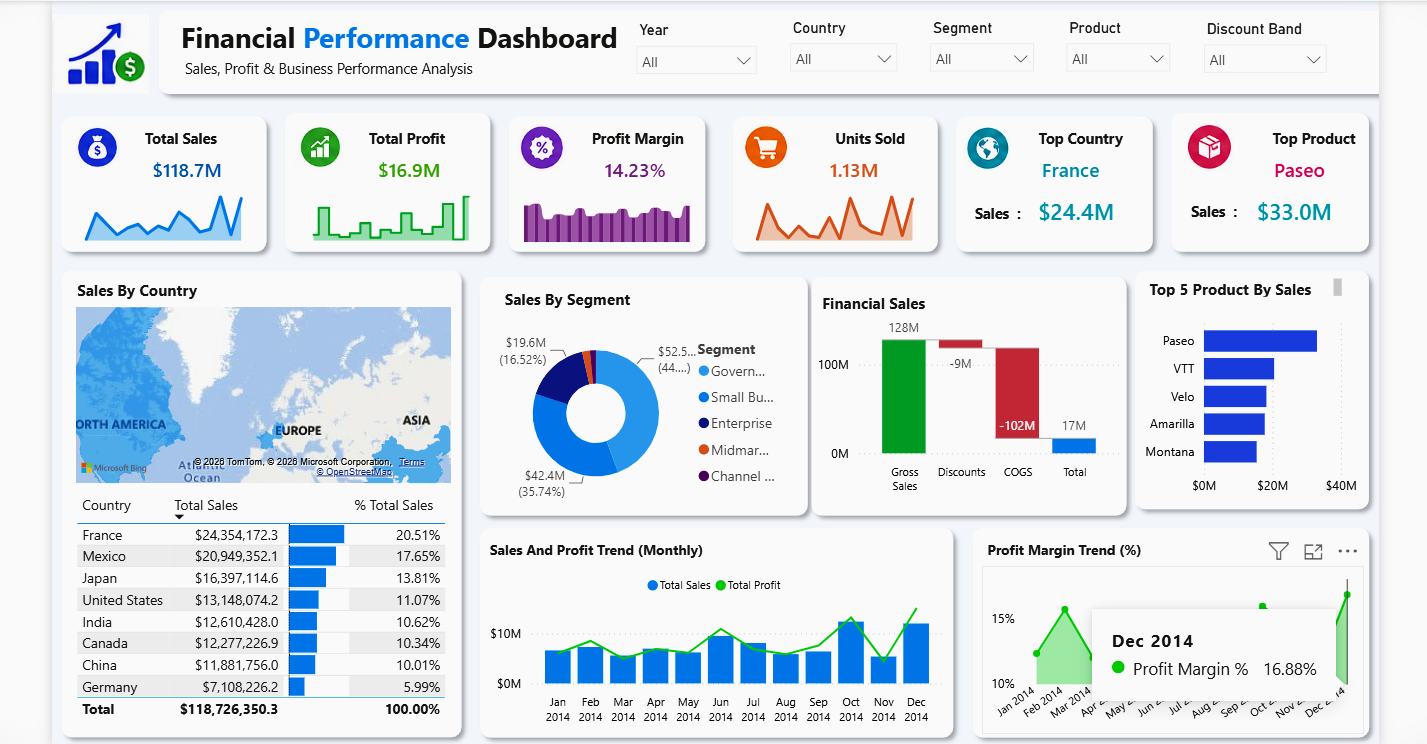

The dashboard page shown, as its layout file describes it:
{"tool":"powerbi","page":{"name":"Page 1","canvas":[1280,720],"ordinal":0},"visuals":[{"type":"shape","box":[93.8,0,1252.5,98.8],"z":0},{"type":"image","box":[0,12.5,93.8,77.5],"z":1000},{"type":"textbox","box":[120,12.5,433.8,70],"z":2000},{"type":"textbox","box":[120,51.2,391.2,35],"z":3000},{"type":"slicer","fields":{"Values":["Calender.Year"]},"box":[553.8,15,136.2,60],"z":4000},{"type":"slicer","fields":{"Values":["financials.Country"]},"box":[701.9,12.5,123.8,61.2],"z":5000},{"type":"slicer","fields":{"Values":["financials.Segment"]},"box":[837.5,12.5,120,60],"z":6000},{"type":"slicer","fields":{"Values":["financials.Product"]},"box":[969.4,12.5,120,60],"z":7000},{"type":"slicer","fields":{"Values":["financials.Discount Band"]},"box":[1101.2,13.8,138.8,60],"z":8000},{"type":"shape","box":[0,102.5,216,148.4],"z":9000},{"type":"textbox","box":[77.2,118.2,94.1,35],"z":10000},{"type":"image","box":[19.3,118.2,48.3,47.1],"z":11000},{"type":"cardVisual","fields":{"Data":["Measure.Total Sales"]},"box":[67.6,141.2,126.7,41],"z":12000},{"type":"shape","box":[216,98.9,216,152],"z":13000},{"type":"shape","box":[431.9,102.5,207.5,148.4],"z":14000},{"type":"shape","box":[647.9,102.5,216,148.4],"z":15000},{"type":"shape","box":[863.8,102.5,207.5,148.4],"z":16000},{"type":"shape","box":[1071.3,98.9,208.7,152],"z":17000},{"type":"textbox","box":[741.7,118.2,95.3,35],"z":18000},{"type":"textbox","box":[513,118.2,105,35],"z":19000},{"type":"textbox","box":[295.1,118.2,94.1,35],"z":20000},{"type":"image","box":[234.3,118.2,48.3,47.1],"z":21000},{"type":"image","box":[449.3,118.2,48.3,47.1],"z":22000},{"type":"image","box":[664.3,118.2,48.3,47.1],"z":23000},{"type":"image","box":[879.3,118.2,48.3,47.1],"z":24000},{"type":"image","box":[1094.2,118.2,48.3,47.1],"z":25000},{"type":"textbox","box":[947.1,118.2,95.3,35],"z":26000},{"type":"textbox","box":[1170.2,118.2,95.3,35],"z":27000},{"type":"cardVisual","fields":{"Data":["Measure.Total Profit"]},"box":[285.9,141.2,118.2,41],"z":28000},{"type":"cardVisual","fields":{"Data":["Measure.Profit Margin %"]},"box":[503.3,141.2,120.6,41],"z":29000},{"type":"cardVisual","fields":{"Data":["Measure.Unit Sold"]},"box":[723.6,141.2,101.3,41],"z":30000},{"type":"cardVisual","fields":{"Data":["Measure.Top Country"]},"box":[924.6,141.2,118.2,41],"z":31000},{"type":"cardVisual","fields":{"Data":["Measure.Top Product"]},"box":[1142.5,141.2,123.1,41],"z":32000},{"type":"areaChart","fields":{"Y":["Measure.Total Sales"],"Category":["Calender.Date"]},"box":[18.1,174.9,179.8,61.5],"z":33000},{"type":"areaChart","fields":{"Category":["Calender.Date"],"Y":["Measure.Total Profit"]},"box":[237.7,174.9,179.8,61.5],"z":34000},{"type":"ribbonChart","fields":{"Category":["Calender.Date"],"Y":["Measure.Profit Margin %"]},"box":[448.8,177.3,173.7,61.5],"z":35000},{"type":"areaChart","fields":{"Category":["Calender.Date"],"Y":["Measure.Unit Sold"]},"box":[666,174.9,179.8,61.5],"z":36000},{"type":"cardVisual","fields":{"Data":["Measure.Total Sales"]},"box":[912.5,174.3,142.7,56.3],"z":37000},{"type":"textbox","box":[885.1,190.7,61.7,35.7],"z":38000},{"type":"cardVisual","fields":{"Data":["Measure.Total Sales"]},"box":[1129.3,174.3,135.8,56.3],"z":39000},{"type":"textbox","box":[1093.7,188,61.7,35.7],"z":40000},{"type":"shape","box":[0,251.4,404.3,468.6],"z":41000},{"type":"shape","box":[404.3,257.1,334.3,248.6],"z":42000},{"type":"shape","box":[723.9,257,322.1,248.5],"z":43000},{"type":"shape","box":[1036.3,250.9,243.7,248.5],"z":44000},{"type":"shape","box":[404.6,499.8,474.8,220.5],"z":45000},{"type":"shape","box":[879.4,499.8,400.9,220.5],"z":46000},{"type":"textbox","box":[19.3,264.2,300.4,36.2],"z":47000},{"type":"filledMap","fields":{"Category":["financials.Country"]},"box":[18.1,290.8,371.6,179.8],"z":48000},{"type":"tableEx","fields":{"Values":["financials.Country","Measure.Total Sales","Sum(financials. Sales)","Divide(Measure.Total Sales, ScopedEval(Measure.Total Sales, []))"]},"box":[18.6,470,371.4,237.1],"z":49000},{"type":"waterfallChart","fields":{"Category":["Financial Flow.Stage"],"Y":["Financial Flow.Fianacial Flow Value"]},"box":[733.5,294.4,302.8,189.4],"z":50000},{"type":"textbox","box":[431.9,272.7,195.4,36.2],"z":51000},{"type":"donutChart","fields":{"Category":["financials.Segment"],"Y":["Measure.Total Sales"]},"box":[422.3,300.4,290.8,195.4],"z":52000},{"type":"textbox","box":[1054.8,263.1,195.4,27.6],"z":53000},{"type":"barChart","fields":{"Y":["Measure.Total Sales"],"Category":["financials.Product"]},"box":[1046,294.4,219.2,191.7],"z":54000},{"type":"textbox","box":[417.1,515.7,248.6,30],"z":55000},{"type":"lineClusteredColumnComboChart","fields":{"Category":["Calender.Month Year"],"Y":["Measure.Total Sales"],"Y2":["Measure.Total Profit"]},"box":[417.1,545.7,447.1,160],"z":56000},{"type":"textbox","box":[897.1,515.7,248.6,30],"z":57000},{"type":"areaChart","fields":{"Category":["Calender.Month Year"],"Y":["Measure.Profit Margin %"]},"box":[897.1,545.7,368.6,161.4],"z":58000},{"type":"textbox","box":[738.3,276.3,283.5,32.6],"z":59000}]}

Visuals, with their boxes on the page's 1280x720 design canvas (x1, y1, x2, y2). These are canvas units, not pixel positions in the 1427x744 screenshot, which may show the page scaled, cropped or inside an application window:
shape: box=[94, 0, 1346, 99]
image: box=[0, 12, 94, 90]
textbox: box=[120, 12, 554, 82]
textbox: box=[120, 51, 511, 86]
slicer - Calender.Year: box=[554, 15, 690, 75]
slicer - financials.Country: box=[702, 12, 826, 74]
slicer - financials.Segment: box=[838, 12, 958, 72]
slicer - financials.Product: box=[969, 12, 1089, 72]
slicer - financials.Discount Band: box=[1101, 14, 1240, 74]
shape: box=[0, 102, 216, 251]
textbox: box=[77, 118, 171, 153]
image: box=[19, 118, 68, 165]
cardVisual - Measure.Total Sales: box=[68, 141, 194, 182]
shape: box=[216, 99, 432, 251]
shape: box=[432, 102, 639, 251]
shape: box=[648, 102, 864, 251]
shape: box=[864, 102, 1071, 251]
shape: box=[1071, 99, 1280, 251]
textbox: box=[742, 118, 837, 153]
textbox: box=[513, 118, 618, 153]
textbox: box=[295, 118, 389, 153]
image: box=[234, 118, 283, 165]
image: box=[449, 118, 498, 165]
image: box=[664, 118, 713, 165]
image: box=[879, 118, 928, 165]
image: box=[1094, 118, 1142, 165]
textbox: box=[947, 118, 1042, 153]
textbox: box=[1170, 118, 1266, 153]
cardVisual - Measure.Total Profit: box=[286, 141, 404, 182]
cardVisual - Measure.Profit Margin %: box=[503, 141, 624, 182]
cardVisual - Measure.Unit Sold: box=[724, 141, 825, 182]
cardVisual - Measure.Top Country: box=[925, 141, 1043, 182]
cardVisual - Measure.Top Product: box=[1142, 141, 1266, 182]
areaChart - Measure.Total Sales x Calender.Date: box=[18, 175, 198, 236]
areaChart - Calender.Date x Measure.Total Profit: box=[238, 175, 418, 236]
ribbonChart - Calender.Date x Measure.Profit Margin %: box=[449, 177, 622, 239]
areaChart - Calender.Date x Measure.Unit Sold: box=[666, 175, 846, 236]
cardVisual - Measure.Total Sales: box=[912, 174, 1055, 231]
textbox: box=[885, 191, 947, 226]
cardVisual - Measure.Total Sales: box=[1129, 174, 1265, 231]
textbox: box=[1094, 188, 1155, 224]
shape: box=[0, 251, 404, 720]
shape: box=[404, 257, 739, 506]
shape: box=[724, 257, 1046, 506]
shape: box=[1036, 251, 1280, 499]
shape: box=[405, 500, 879, 720]
shape: box=[879, 500, 1280, 720]
textbox: box=[19, 264, 320, 300]
filledMap - financials.Country: box=[18, 291, 390, 471]
tableEx - financials.Country x Measure.Total Sales: box=[19, 470, 390, 707]
waterfallChart - Financial Flow.Stage x Financial Flow.Fianacial Flow Value: box=[734, 294, 1036, 484]
textbox: box=[432, 273, 627, 309]
donutChart - financials.Segment x Measure.Total Sales: box=[422, 300, 713, 496]
textbox: box=[1055, 263, 1250, 291]
barChart - Measure.Total Sales x financials.Product: box=[1046, 294, 1265, 486]
textbox: box=[417, 516, 666, 546]
lineClusteredColumnComboChart - Calender.Month Year x Measure.Total Sales: box=[417, 546, 864, 706]
textbox: box=[897, 516, 1146, 546]
areaChart - Calender.Month Year x Measure.Profit Margin %: box=[897, 546, 1266, 707]
textbox: box=[738, 276, 1022, 309]
